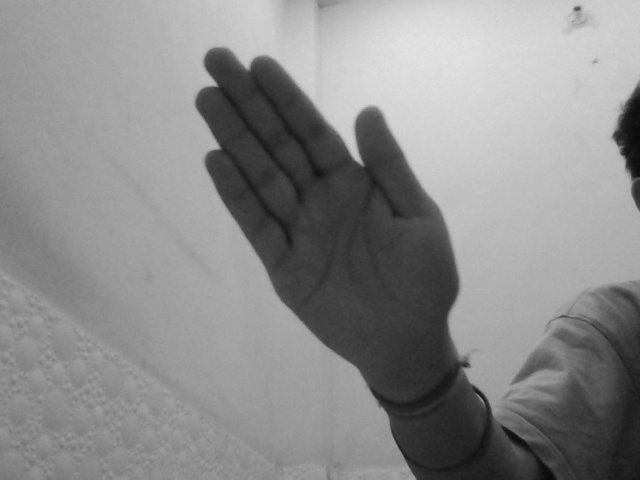Hello: (192, 42, 462, 376)
